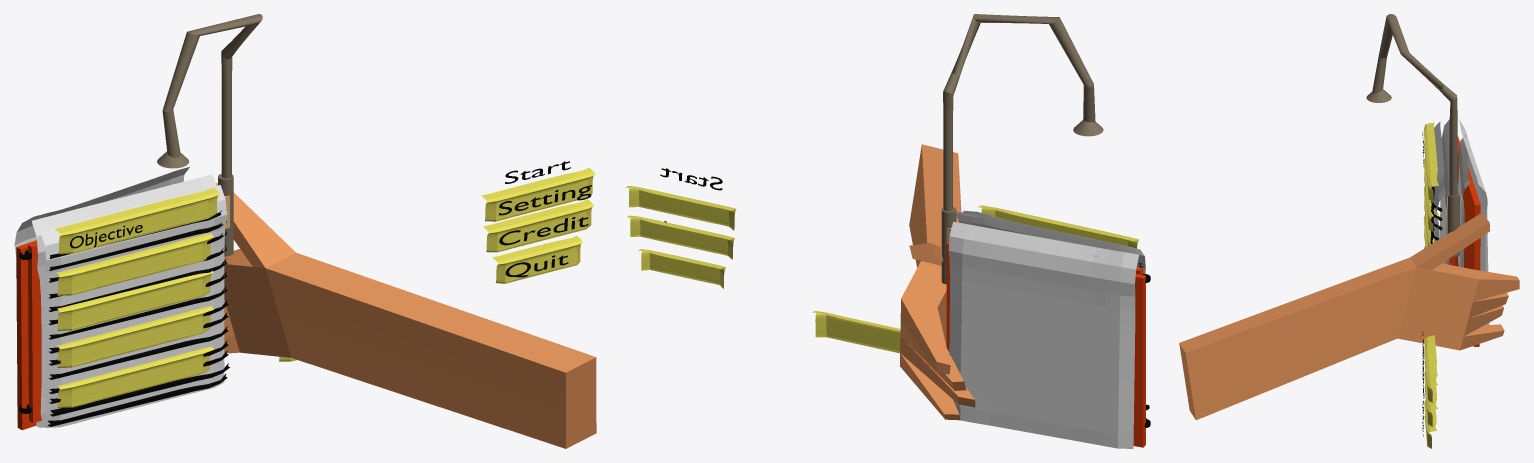
The model's file is Book in hand.fbx.
3 renders of one model, left to right at view 1: azimuth 30°, elevation 25°; view 2: azimuth 150°, elevation 25°; view 3: azimuth 270°, elevation 25°, orthographic. The views are drawn at different scales.
Parts seen in each view (by area): view 1: Cube.004, Plane.004, Plane.023, Plane.009, Cylinder.001, Plane.027, Plane.028, Plane.026, Plane.010, Plane.011, Plane.012, Plane.001 (+11 smaller); view 2: Plane.024, Cube.004, Cylinder.001, Cube.003, Plane.010, Plane.025, Plane.011, Plane.012, Plane.023, Plane.002, Cylinder; view 3: Cube.004, Cylinder.001, Cube.003, Plane.024, Plane.023, Plane.004, Plane.003, Plane, Plane.010, Cylinder, Plane.011.
Part boxes in pixels (x1,y1,x2,y2): Cube.004: (215, 183, 596, 448); Plane.004: (40, 185, 227, 427); Plane.023: (55, 187, 220, 254); Plane.009: (56, 233, 213, 295); Cylinder.001: (162, 14, 262, 178); Plane.027: (57, 306, 213, 367); Plane.028: (57, 346, 213, 408); Plane.026: (57, 271, 213, 330); Plane.010: (481, 167, 595, 221); Plane.011: (483, 199, 593, 252); Plane.012: (492, 235, 582, 283); Plane.001: (33, 174, 216, 426); Plane.024: (948, 221, 1138, 448); Cube.004: (900, 144, 975, 420); Cylinder.001: (943, 14, 1095, 211); Cube.003: (946, 241, 1145, 447); Plane.010: (625, 186, 736, 230); Plane.025: (812, 311, 900, 353); Plane.011: (627, 215, 734, 259); Plane.012: (638, 249, 725, 288); Plane.023: (978, 205, 1138, 248); Plane.002: (955, 213, 1137, 266); Cylinder: (941, 207, 956, 284); Cube.004: (1179, 213, 1519, 420); Cylinder.001: (1372, 14, 1457, 196); Cube.003: (1455, 136, 1480, 346); Plane.024: (1458, 118, 1489, 325); Plane.023: (1423, 122, 1438, 203); Plane.004: (1433, 121, 1446, 241); Plane.003: (1458, 135, 1469, 267); Plane: (1439, 124, 1459, 264); Plane.010: (1424, 342, 1437, 402); Cylinder: (1447, 192, 1459, 256); Plane.011: (1424, 371, 1437, 426).
Bounding box in the file's own units: 1185 × 791 × 790.
